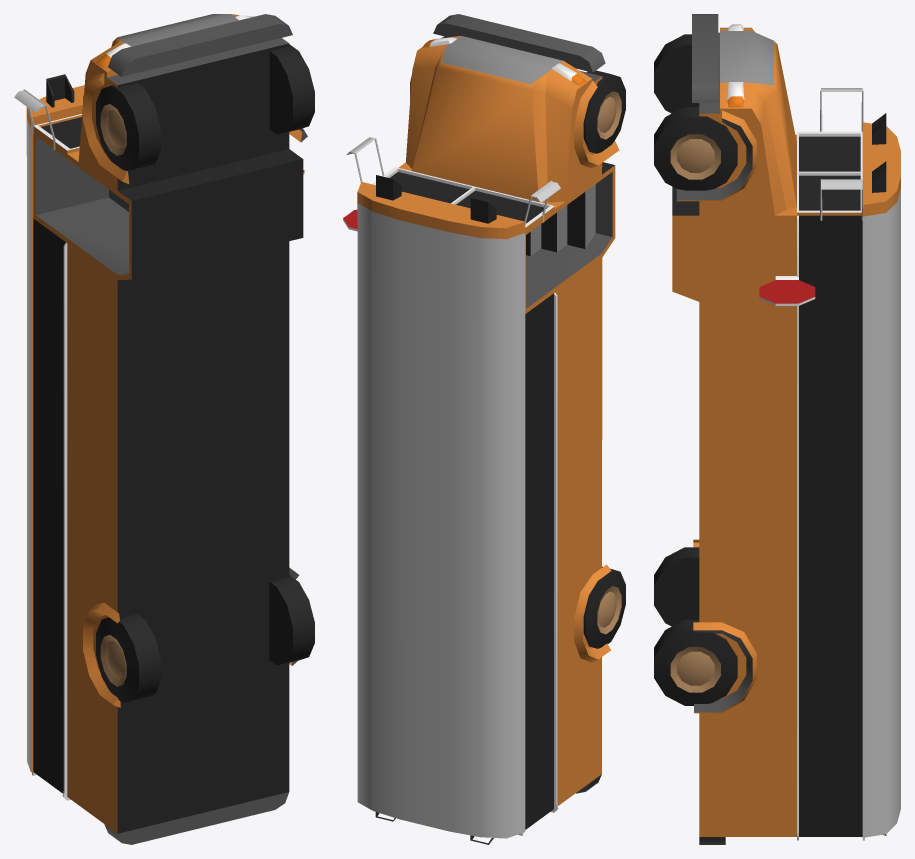
File: school_bus.glb
3 renders of one model, left to right at view 1: azimuth 30°, elevation 25°; view 2: azimuth 150°, elevation 25°; view 3: azimuth 270°, elevation 25°, orthographic. The views are drawn at different scales.
Parts seen in each view (by area): view 1: SchoolBus; view 2: SchoolBus; view 3: SchoolBus.
Part boxes in pixels (bbox=[...]): SchoolBus: bbox=[14, 14, 314, 844]; SchoolBus: bbox=[343, 14, 625, 844]; SchoolBus: bbox=[654, 14, 900, 844].
Size of the model in its own units: 2.83 by 8.67 by 2.55.
Materials: 1 (1 with a texture image).
